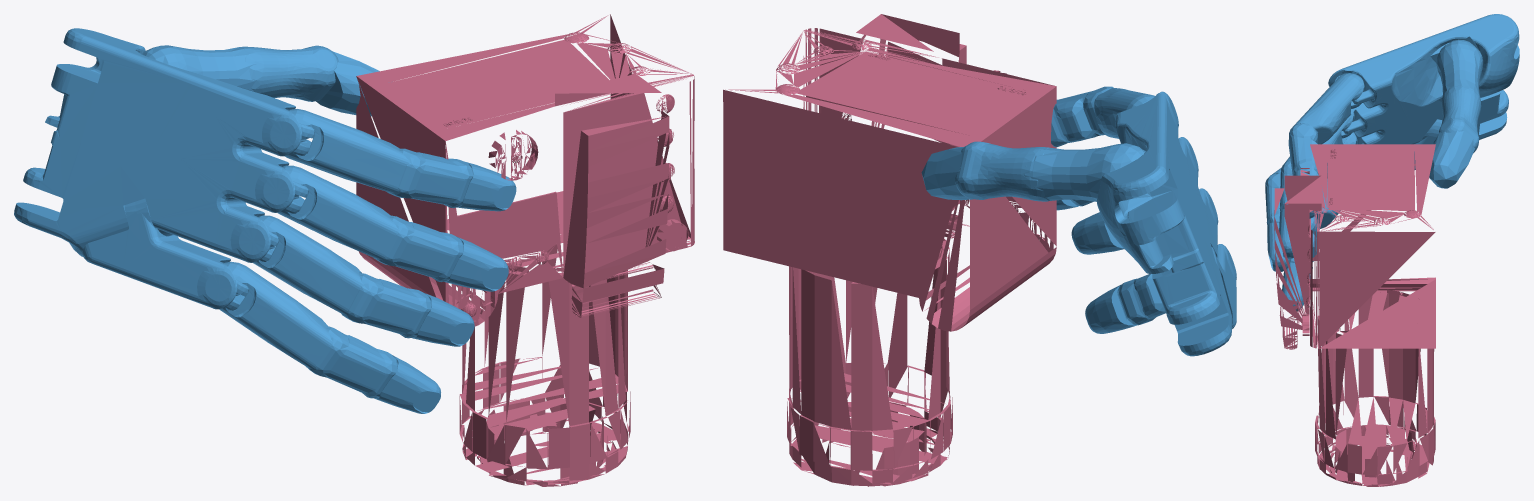
3 renders of one model, left to right at view 1: azimuth 30°, elevation 25°; view 2: azimuth 150°, elevation 25°; view 3: azimuth 270°, elevation 25°, orthographic. The views are drawn at different scales.
Visible parts, largest first — view 1: 1; view 2: 1; view 3: 1.
Part boxes in pixels (x1,y1,x2,y2): 1: [14, 14, 694, 486]; 1: [723, 14, 1236, 486]; 1: [1265, 14, 1519, 486].
Bounding box in the file's own units: 0.2512 × 0.1969 × 0.1411.
